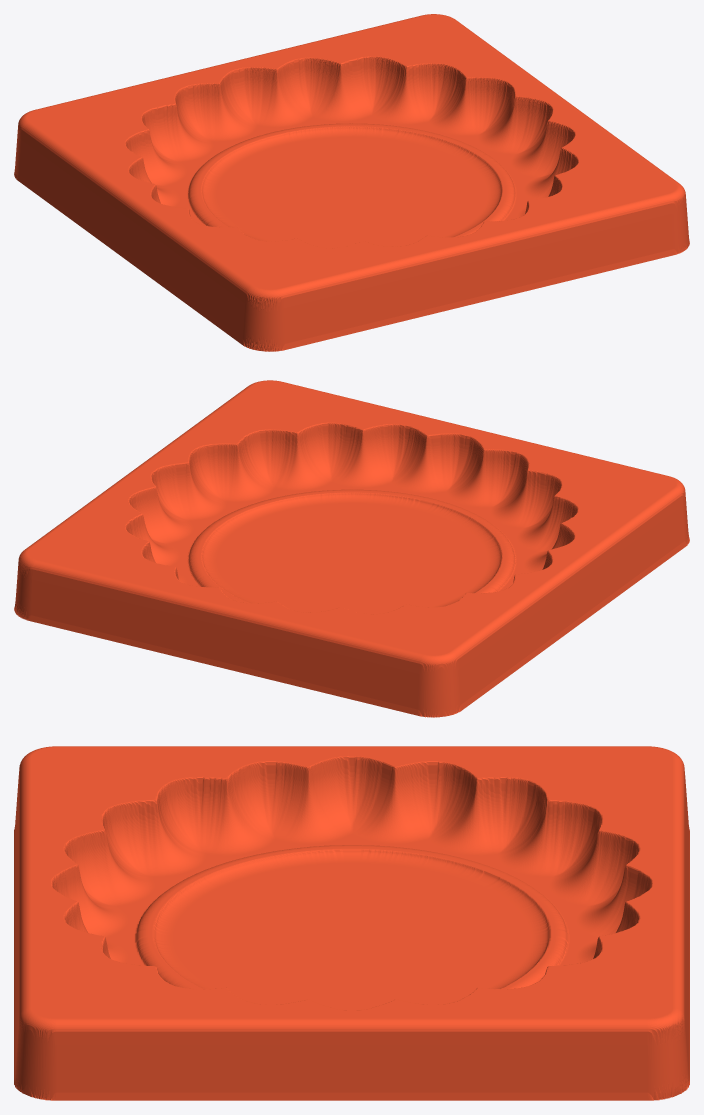
Rendered from mold.glb.
3 views of the same model, one above another, from view 1: azimuth 30°, elevation 25°; view 2: azimuth 150°, elevation 25°; view 3: azimuth 270°, elevation 25° (orthographic). The views are drawn at different scales.
Parts seen in each view (by area): view 1: geometry_0; view 2: geometry_0; view 3: geometry_0.
Boxes of the visible parts, x1=… form: geometry_0: x1=14, y1=14, x2=689, y2=351; geometry_0: x1=14, y1=380, x2=689, y2=717; geometry_0: x1=14, y1=746, x2=689, y2=1100.
Size of the model in its own units: 0.1435 by 0.0175 by 0.1435.
